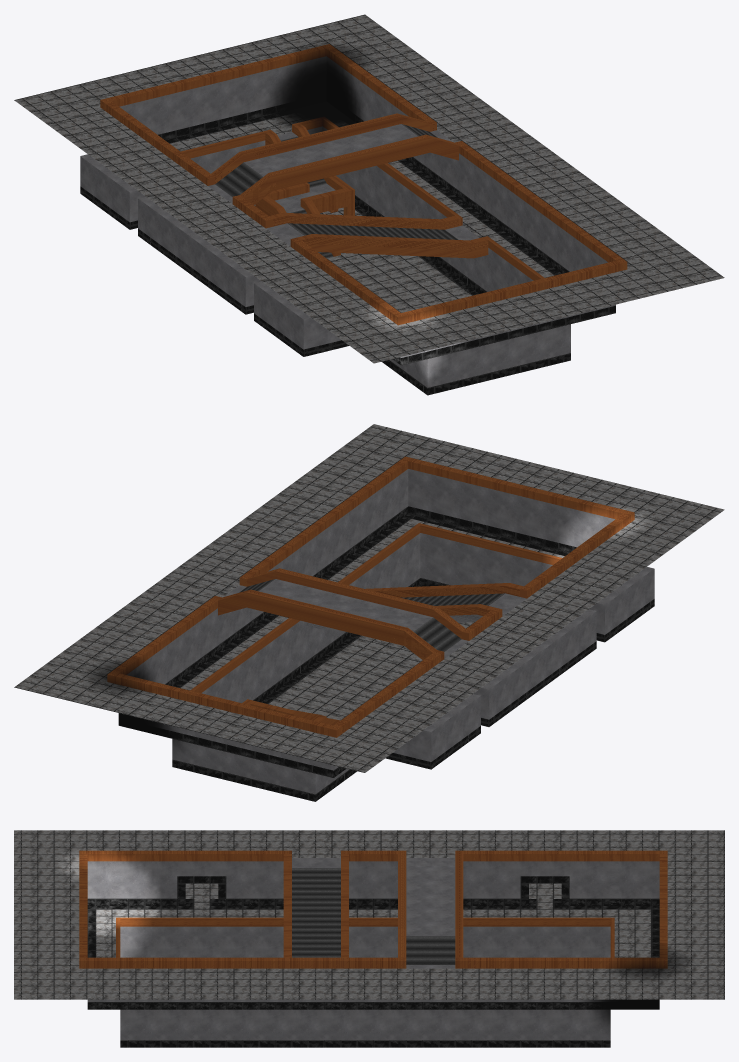
File: BattleLobby.glb
3 renders of one model, top to bottom at view 1: azimuth 30°, elevation 25°; view 2: azimuth 150°, elevation 25°; view 3: azimuth 270°, elevation 25°, orthographic.
Parts seen in each view (by area): view 1: Interior; view 2: Interior; view 3: Interior.
Part boxes in pixels (x1,y1,x2,y2): Interior: (14,14,724,395); Interior: (14,424,724,801); Interior: (14,830,724,1047).
Bounding box in the file's own units: 49 × 16 × 87.
5 materials, 5 textured.
